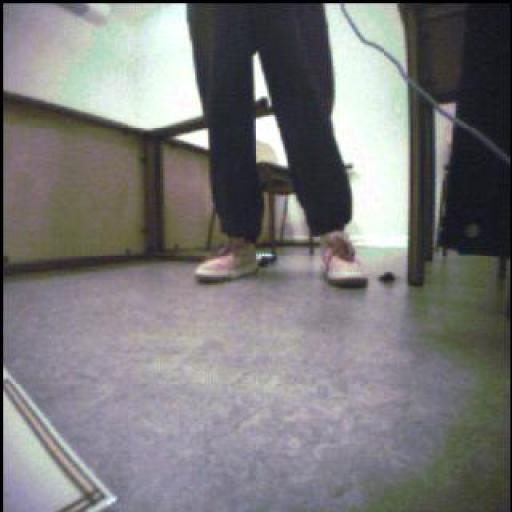Pad: (1, 370, 121, 512)
